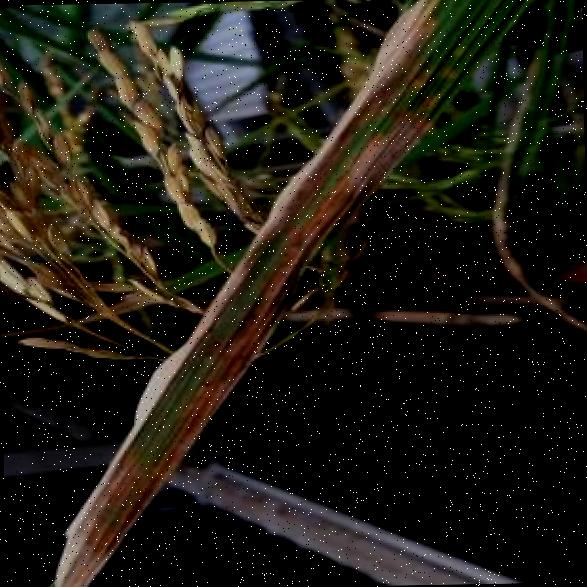Bacteria_Leaf_Blight: (92, 373, 189, 516)
